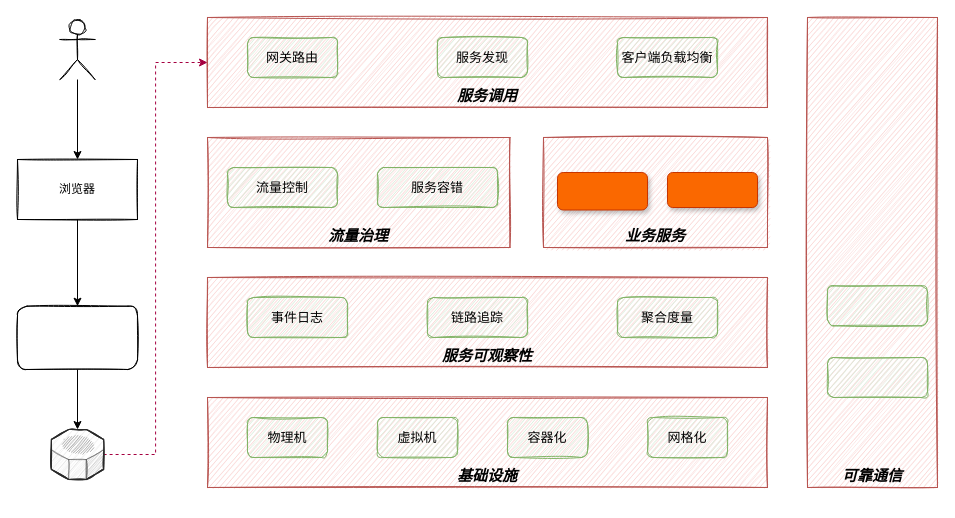
Some shapes in this 955 by 518 pixel diagram are drawn without their labels. The shapes that lost their labels are listed below. From the top down, each one's centre as x and y in pixels, then its label:
pixel 603 192: 原始服务
pixel 713 191: 聚合服务
pixel 877 305: 授权
pixel 77 337: DNS
pixel 877 377: 认证
pixel 77 454: 外网负载均衡
